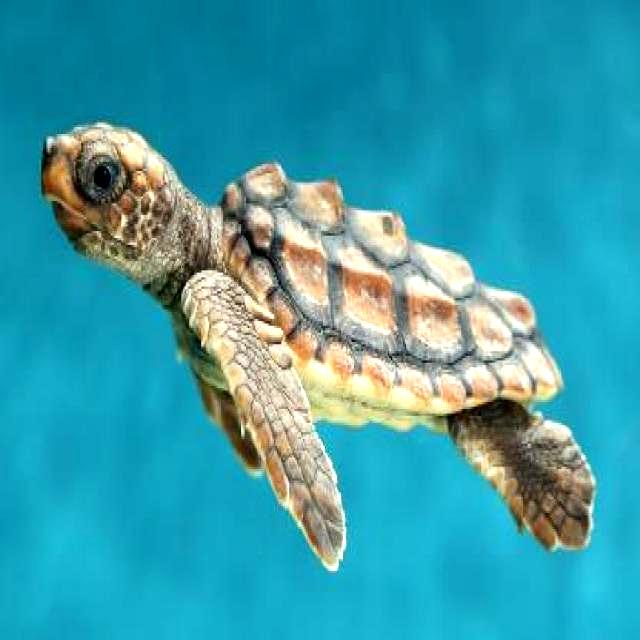Sea turtle: (29, 110, 608, 581)
